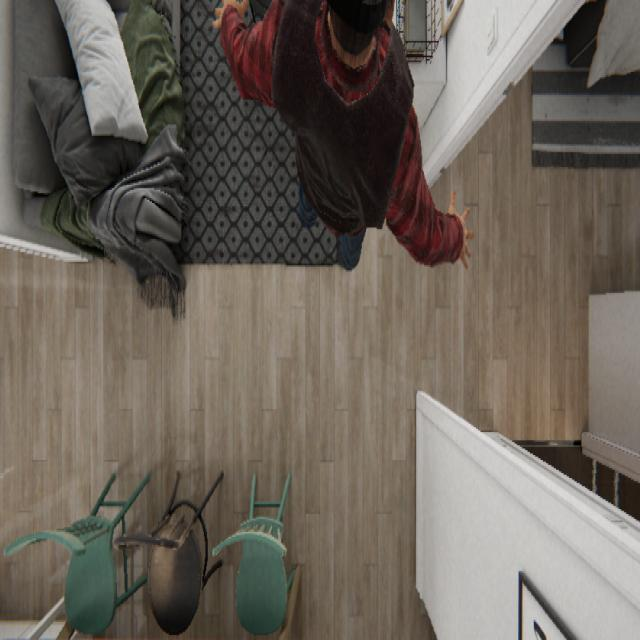Human: (213, 0, 474, 272)
